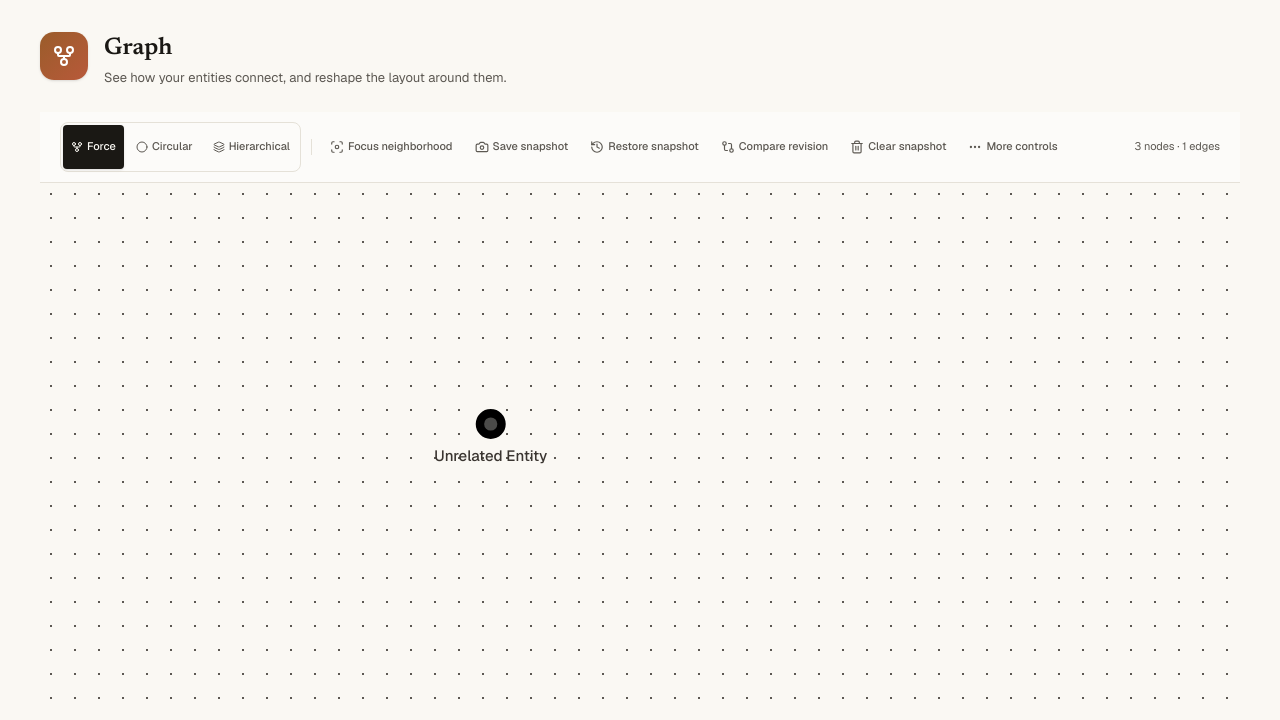
Test: GraphView branch coverage › Snapshot save/restore round trip (D4.1) › clears a stored snapshot and re-disables the restore action
Click the button labelled "Clear snapshot". click: (898, 146)
box: [842,124,954,168]
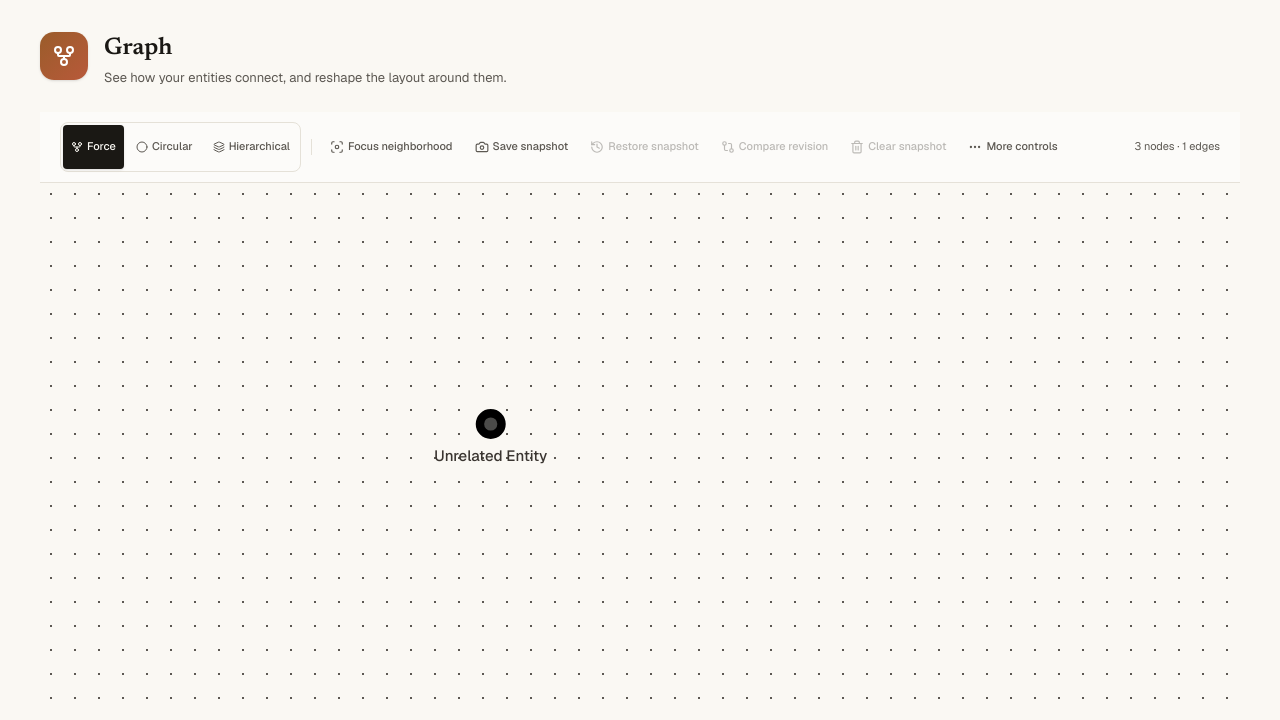
Expected: the button labelled "Restore snapshot" is disabled, [582,124,707,168]
